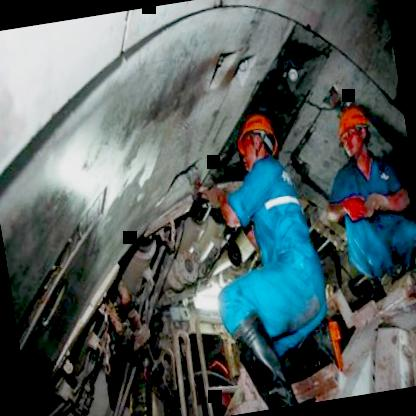helmet: (230, 105, 284, 176), (330, 100, 378, 164)
